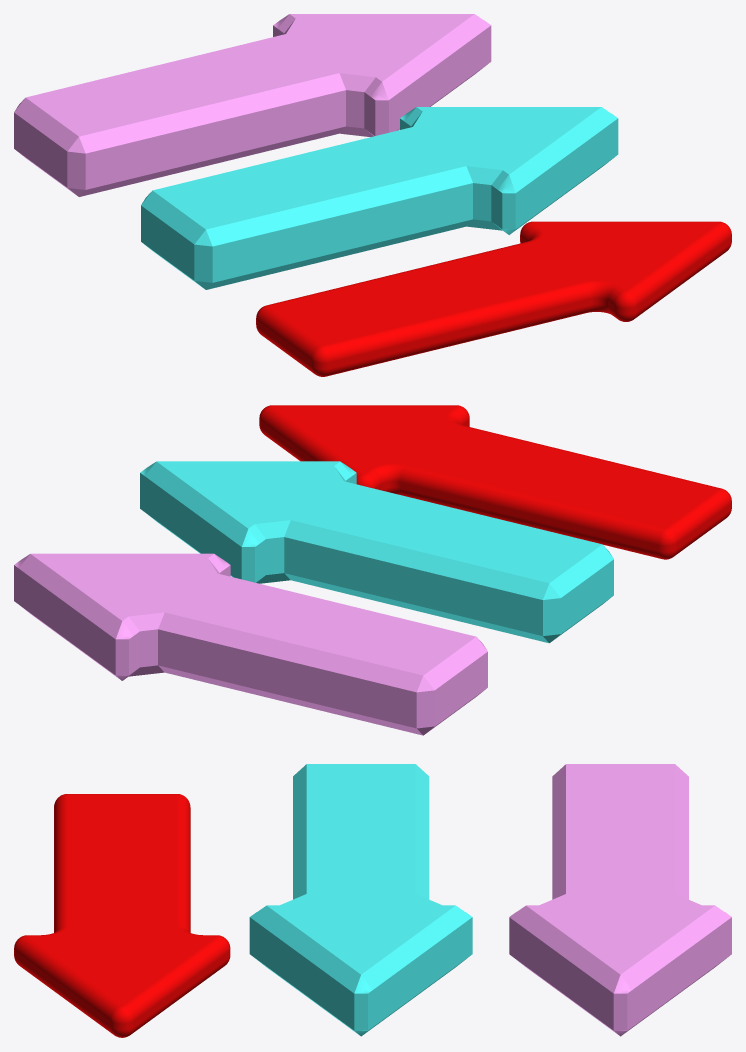
The model's file is 21005-05-16 앤닷캐드 수업 자료.fbx.
3 views of the same model, one above another, from view 1: azimuth 30°, elevation 25°; view 2: azimuth 150°, elevation 25°; view 3: azimuth 270°, elevation 25° (orthographic). The views are drawn at different scales.
Visible parts, largest first — view 1: Shape_2, Shape_1, Shape_3; view 2: Shape_1, Shape_2, Shape_3; view 3: Shape_2, Shape_1, Shape_3.
Boxes of the visible parts, x1,y1,x2,y2 form: Shape_2: (141, 107, 618, 289); Shape_1: (14, 14, 491, 196); Shape_3: (256, 221, 731, 376); Shape_1: (14, 553, 487, 735); Shape_2: (140, 461, 613, 643); Shape_3: (259, 405, 731, 559); Shape_2: (249, 764, 472, 1036); Shape_1: (509, 764, 731, 1036); Shape_3: (14, 794, 230, 1037).
Bounding box in the file's own units: 77.27 × 10 × 105.
3 materials, 3 textured.
